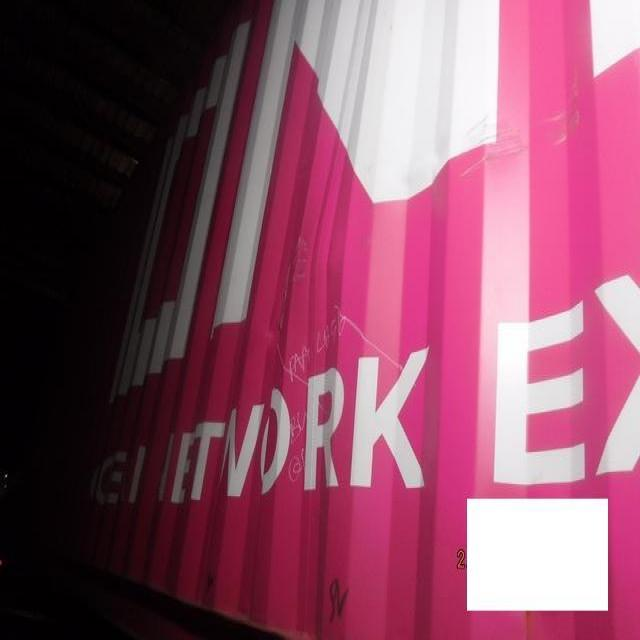Dent: (259, 187, 381, 353)
